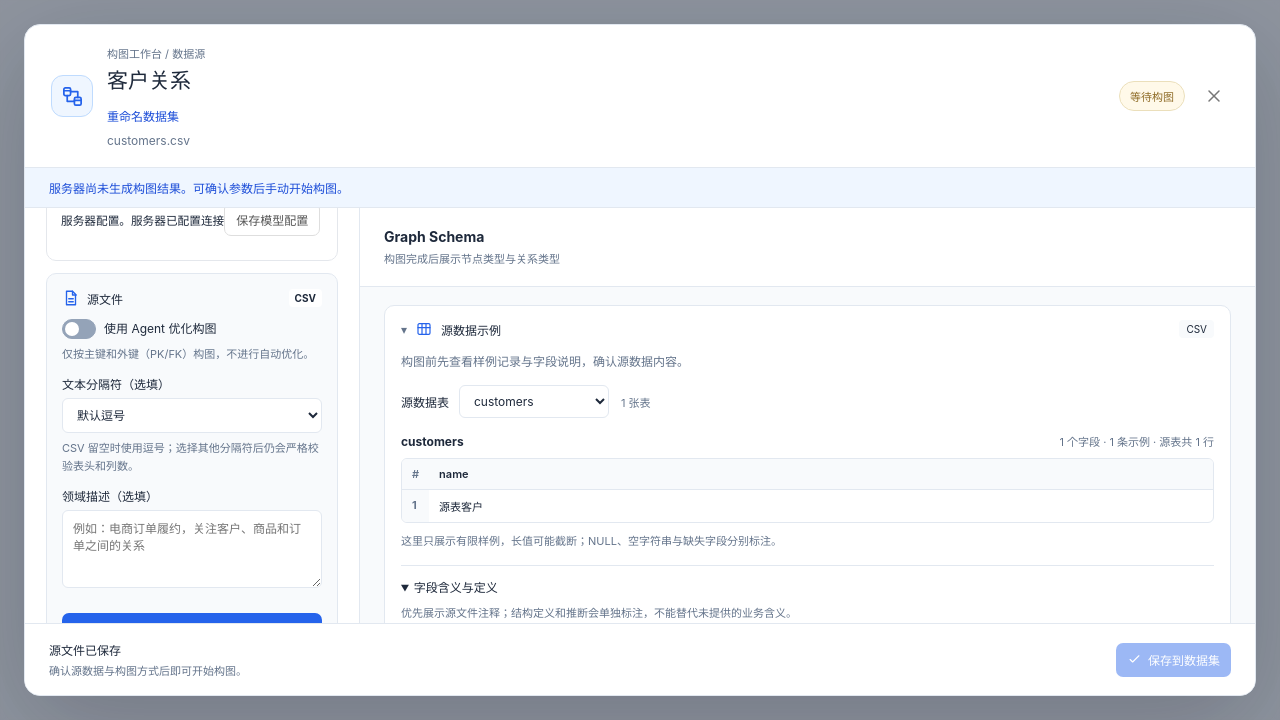
Test: graph construction workflow › shows source samples before a graph exists and keeps preview failure independent from building
The width and height of the screenshot is (1280, 720).
(page scrolled)
Check: the text "源表客户" is shown, box x1=429 y1=490 x2=1213 y2=522
Select "分号" in the dropdown labelled "文本分隔符（选填）" at [192, 416], box x1=62 y1=398 x2=322 y2=433
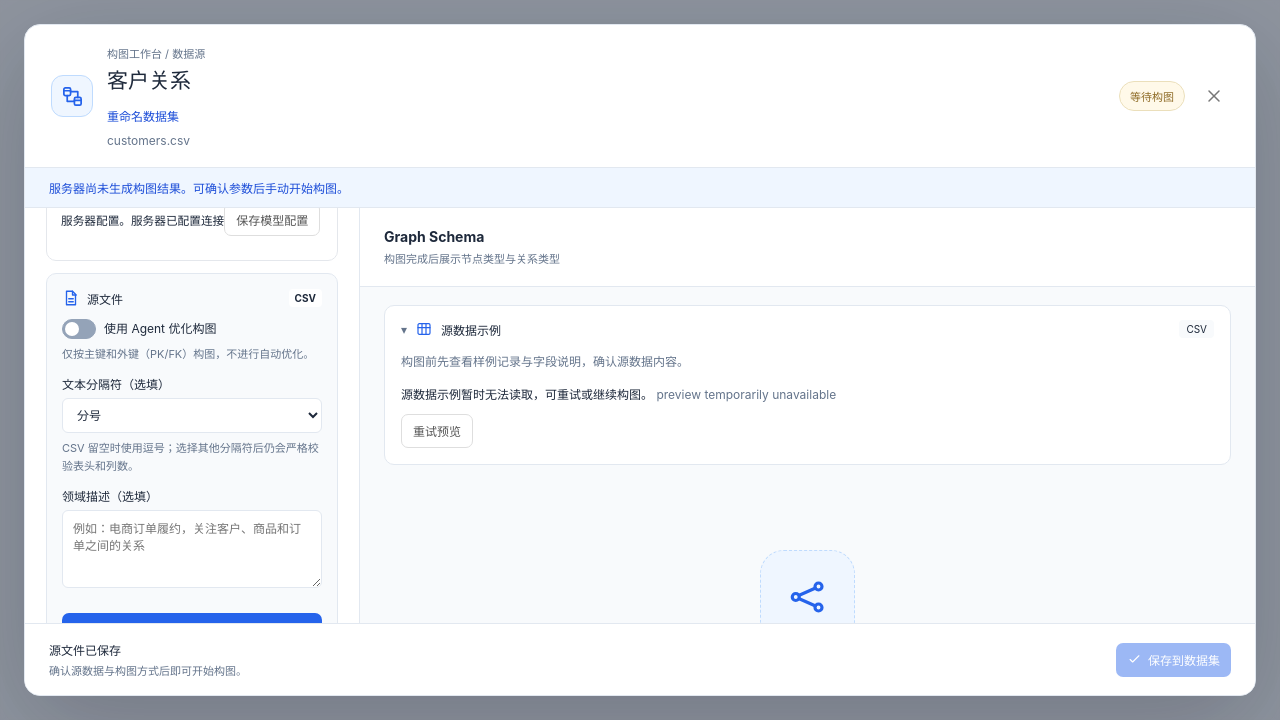
Check: the button "重试预览" is shown, box x1=401 y1=414 x2=473 y2=448
